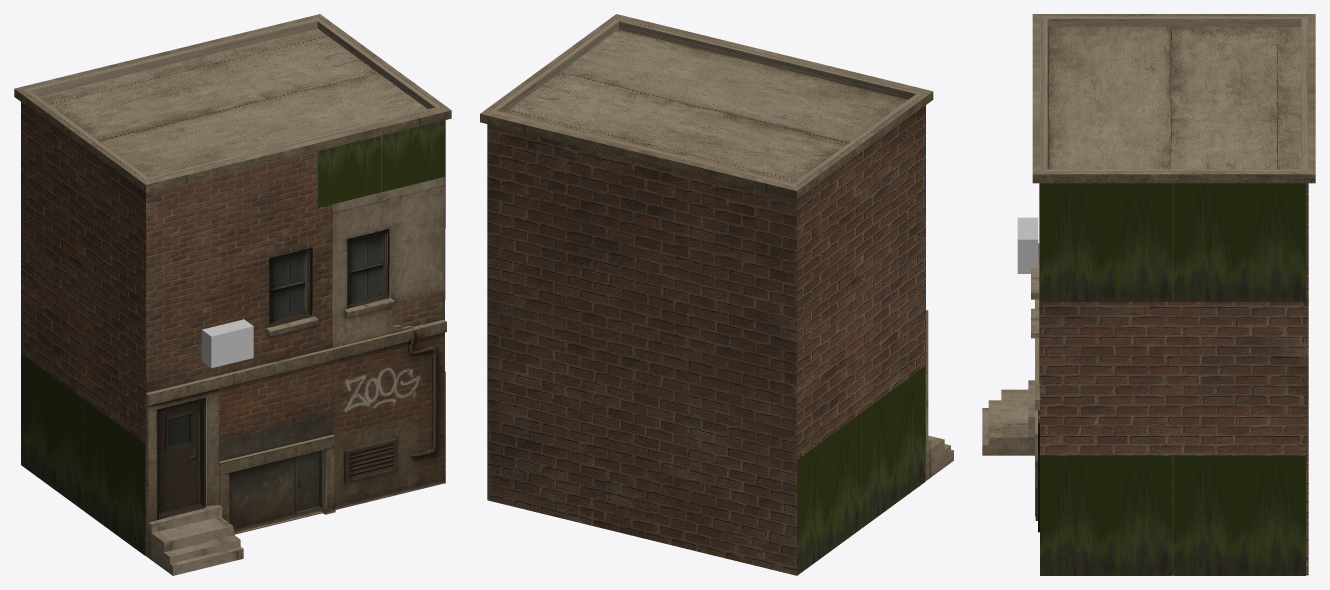
Rendered from urbanhouse.glb.
3 views of the same model, side by side, from view 1: azimuth 30°, elevation 25°; view 2: azimuth 150°, elevation 25°; view 3: azimuth 270°, elevation 25° (orthographic). The views are drawn at different scales.
Bounding box in the file's own units: 5.97 × 7 × 5.25.
Materials: 3 (2 with a texture image).
